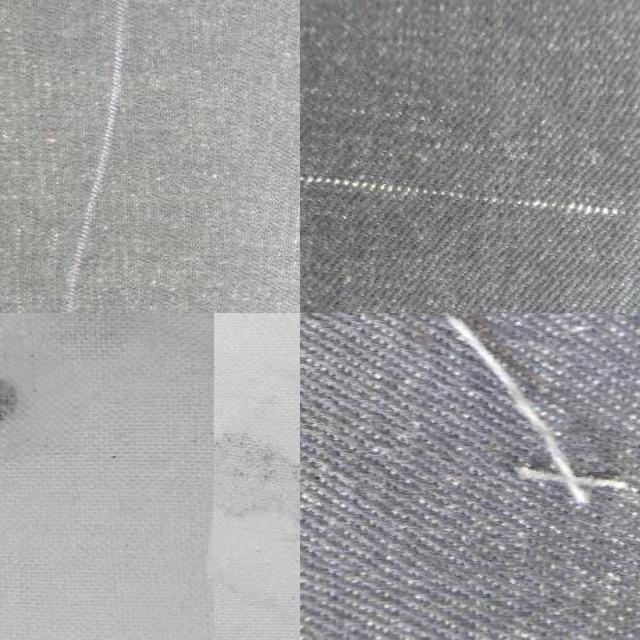Hole: (209, 427, 300, 594), (0, 350, 45, 472)
Thread_other: (300, 313, 640, 600), (300, 80, 640, 313), (227, 0, 300, 313)
